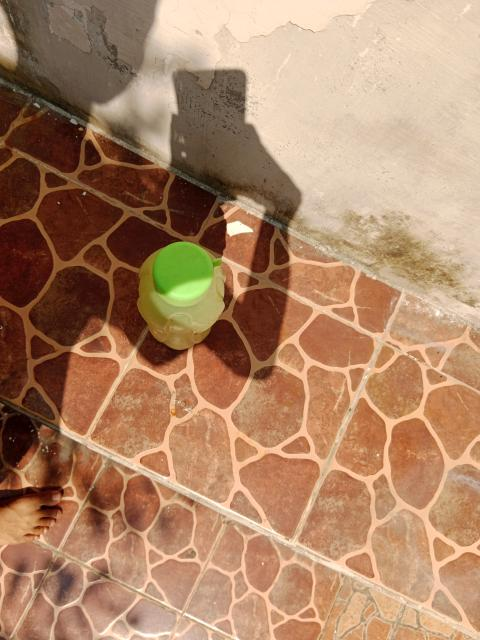botol: (126, 222, 244, 368)
